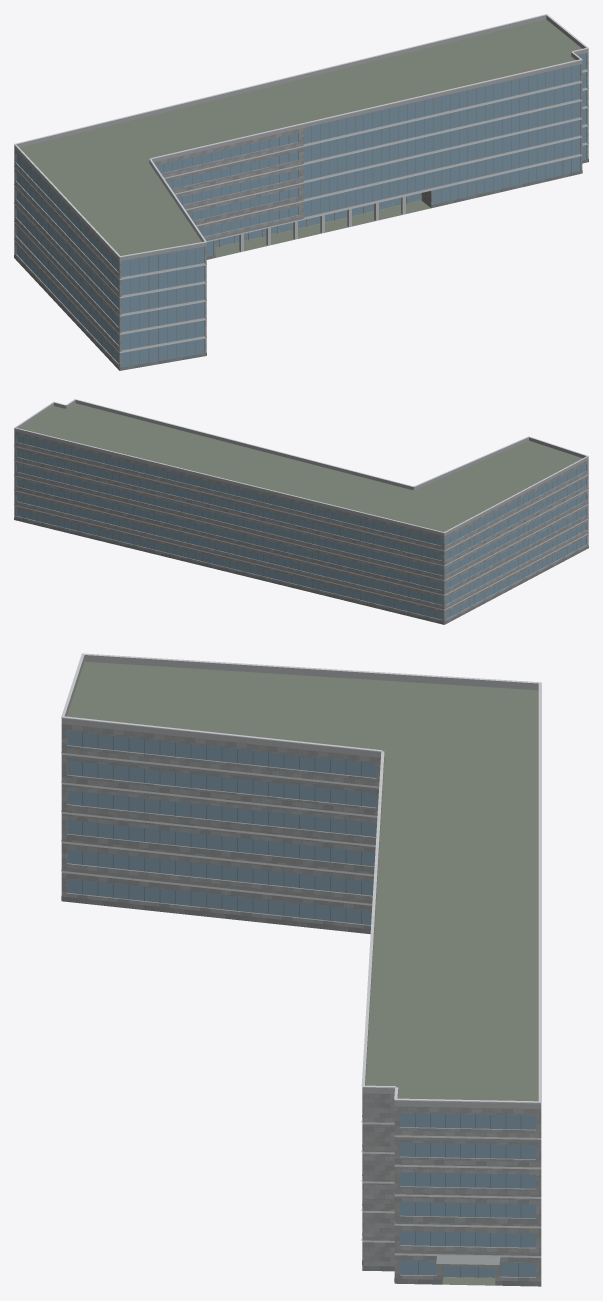
The picture shows the model from 3 angles, top to bottom: view 1: azimuth 30°, elevation 25°; view 2: azimuth 150°, elevation 25°; view 3: azimuth 270°, elevation 25°; orthographic projection. The views are drawn at different scales.
Visible parts, largest first — view 1: law__glass, law__roof, law__wall, law__trim, law__parapet, law__frame, law__spandrel, law__base, law__column; view 2: law__wall, law__glass, law__roof, law__trim, law__parapet, law__frame, law__base; view 3: law__roof, law__wall, law__glass, law__trim, law__parapet, law__frame, law__base.
Boxes of the visible parts, bbox=[...] form: law__glass: bbox=[16, 53, 586, 367]; law__roof: bbox=[20, 19, 581, 257]; law__wall: bbox=[14, 52, 588, 367]; law__trim: bbox=[14, 14, 588, 353]; law__parapet: bbox=[14, 15, 588, 260]; law__frame: bbox=[19, 66, 571, 365]; law__spandrel: bbox=[121, 69, 586, 351]; law__base: bbox=[14, 159, 588, 370]; law__column: bbox=[239, 196, 405, 251]; law__wall: bbox=[14, 431, 588, 624]; law__glass: bbox=[17, 435, 586, 619]; law__roof: bbox=[20, 403, 582, 531]; law__trim: bbox=[14, 399, 588, 610]; law__parapet: bbox=[14, 400, 588, 536]; law__frame: bbox=[23, 437, 581, 617]; law__base: bbox=[14, 517, 588, 624]; law__roof: bbox=[67, 661, 538, 1286]; law__wall: bbox=[61, 724, 541, 1283]; law__glass: bbox=[67, 731, 535, 1277]; law__trim: bbox=[61, 653, 541, 1257]; law__parapet: bbox=[61, 655, 541, 1109]; law__frame: bbox=[82, 732, 521, 1277]; law__base: bbox=[61, 896, 541, 1286].
Bounding box in the file's own units: 123 × 23.07 × 54.59.
Materials: 11 (2 with a texture image).
